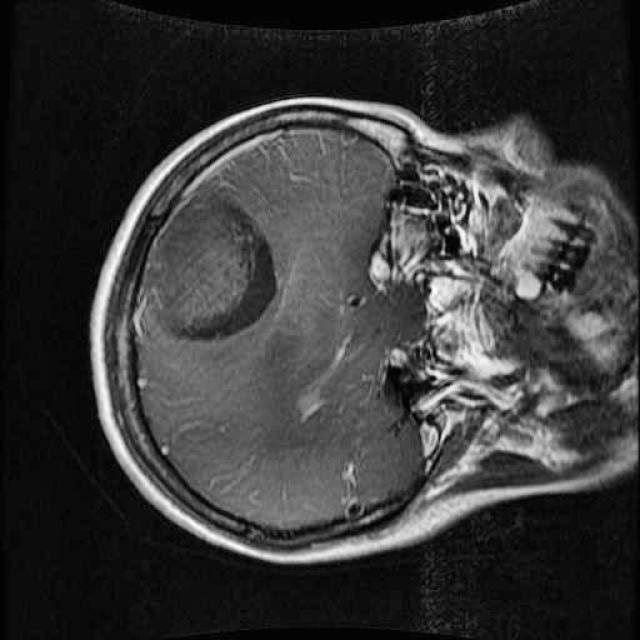Non-Tumor: (135, 168, 292, 354)
